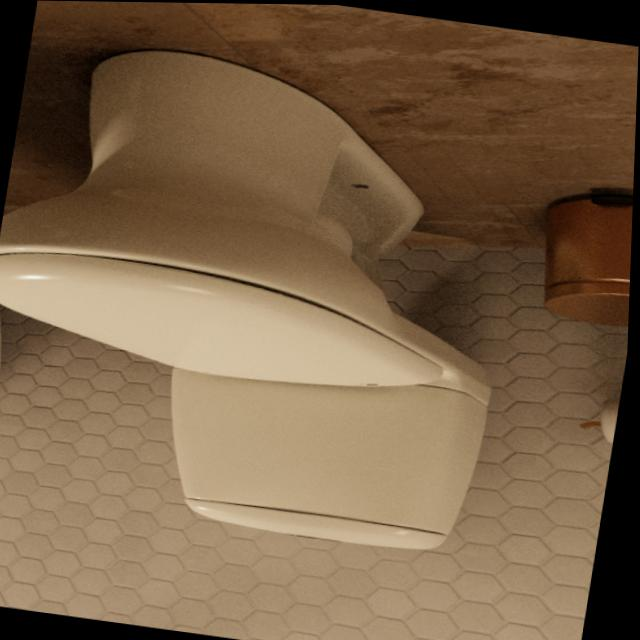toilet: (0, 31, 542, 559)
